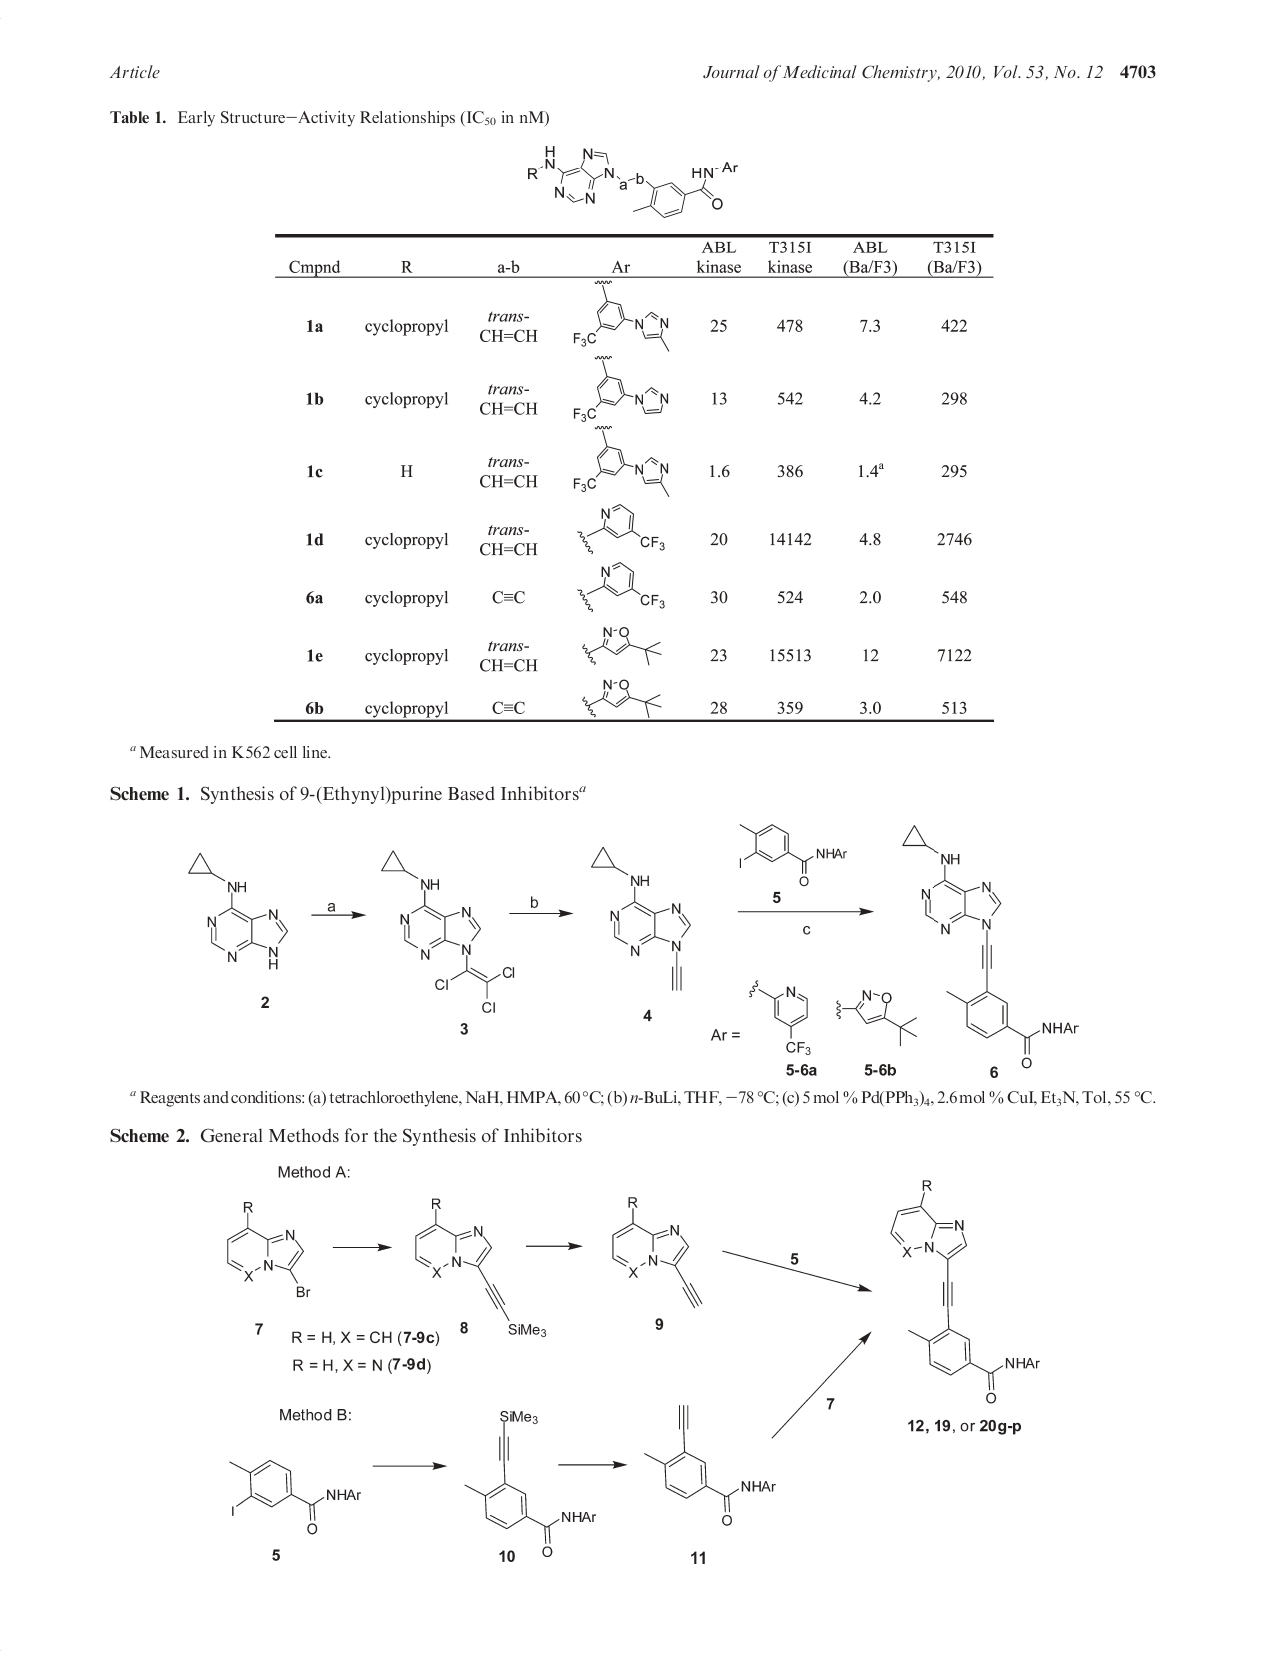exist_molecular: (902, 825, 1084, 1069), (890, 1177, 1039, 1403), (380, 847, 516, 1015), (464, 1408, 597, 1557), (415, 1196, 547, 1338), (641, 1404, 777, 1527), (525, 145, 739, 219), (590, 846, 693, 993), (188, 850, 289, 972), (225, 1456, 364, 1535), (612, 1192, 702, 1309), (223, 1200, 313, 1299), (570, 422, 673, 499), (735, 819, 848, 888), (570, 281, 673, 352), (570, 354, 672, 424), (747, 976, 817, 1056), (574, 561, 666, 614), (835, 989, 918, 1047), (578, 504, 665, 555), (581, 626, 664, 668), (578, 680, 664, 718)
